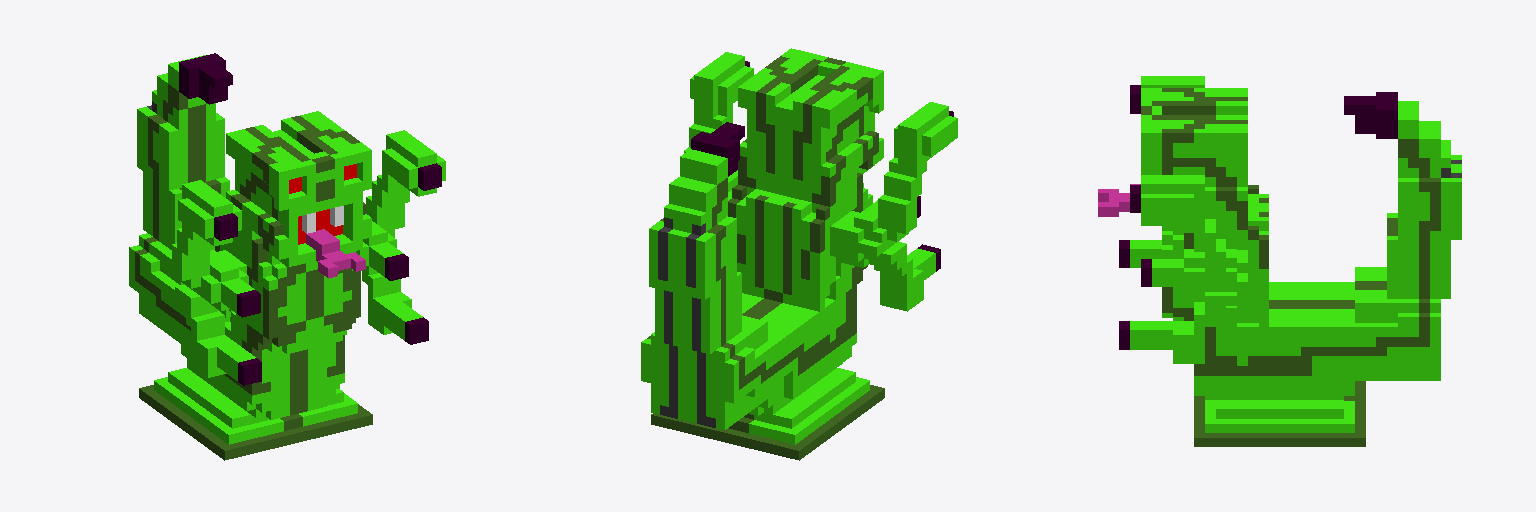
The picture shows the model from 3 angles: view 1: azimuth 30°, elevation 25°; view 2: azimuth 150°, elevation 25°; view 3: azimuth 270°, elevation 25°; orthographic projection.
Size of the model in its own units: 26 by 32 by 34.
Materials: 1 (1 with a texture image).